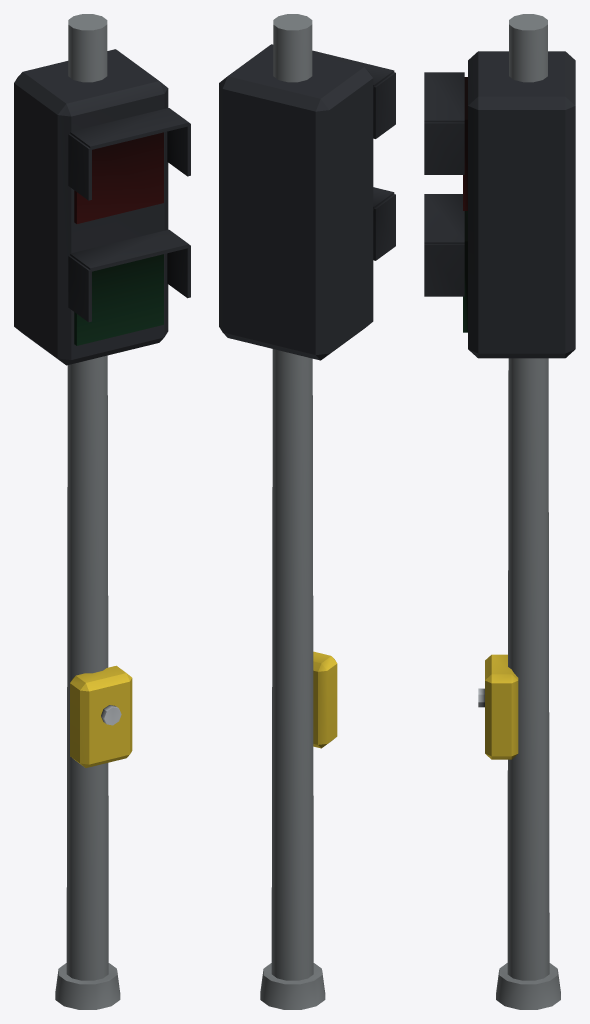
Rendered from prop.town.signal_ped.glb.
The picture shows the model from 3 angles, left to right: view 1: azimuth 30°, elevation 25°; view 2: azimuth 150°, elevation 25°; view 3: azimuth 270°, elevation 25°; orthographic projection.
Visible parts, largest first — view 1: LOD0; view 2: LOD0; view 3: LOD0.
Boxes of the visible parts, bbox=[...] form: LOD0: bbox=[14, 14, 190, 1009]; LOD0: bbox=[219, 14, 395, 1009]; LOD0: bbox=[424, 14, 575, 1009].
Size of what is drawn, in the model's own units: 0.38 by 3.2 by 0.45.
